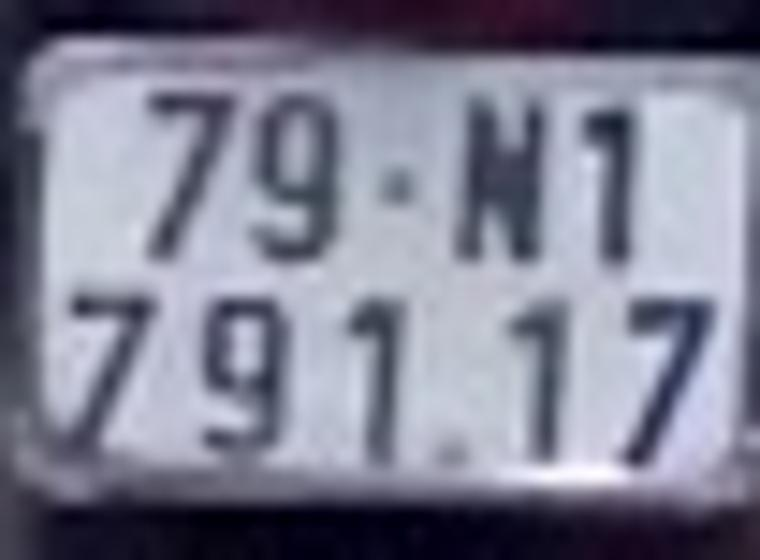-: (378, 176, 417, 203)
.: (435, 441, 461, 463)
1: (348, 295, 401, 464), (515, 294, 560, 463), (591, 103, 632, 263)
7: (621, 294, 717, 469), (144, 86, 224, 257), (67, 294, 155, 448)
9: (255, 87, 340, 264), (203, 296, 288, 455)
N: (460, 84, 541, 267)
